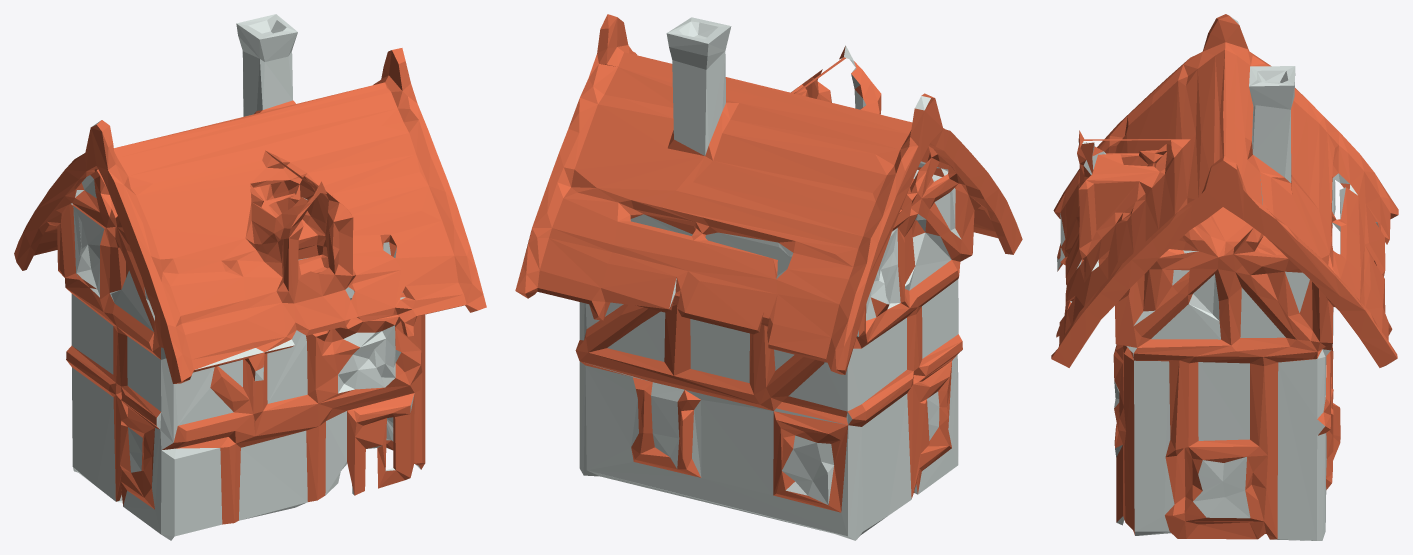
File: House2.fbx
The picture shows the model from 3 angles, left to right: view 1: azimuth 30°, elevation 25°; view 2: azimuth 150°, elevation 25°; view 3: azimuth 270°, elevation 25°; orthographic projection. The views are drawn at different scales.
Parts seen in each view (by area): view 1: polySurface365.001; view 2: polySurface365.001; view 3: polySurface365.001.
Boxes of the visible parts, <box> form: polySurface365.001: <box>14,14,486,540</box>; polySurface365.001: <box>515,14,1022,540</box>; polySurface365.001: <box>1051,14,1398,540</box>.
Bounding box in the file's own units: 4.76 × 6.27 × 4.65.
